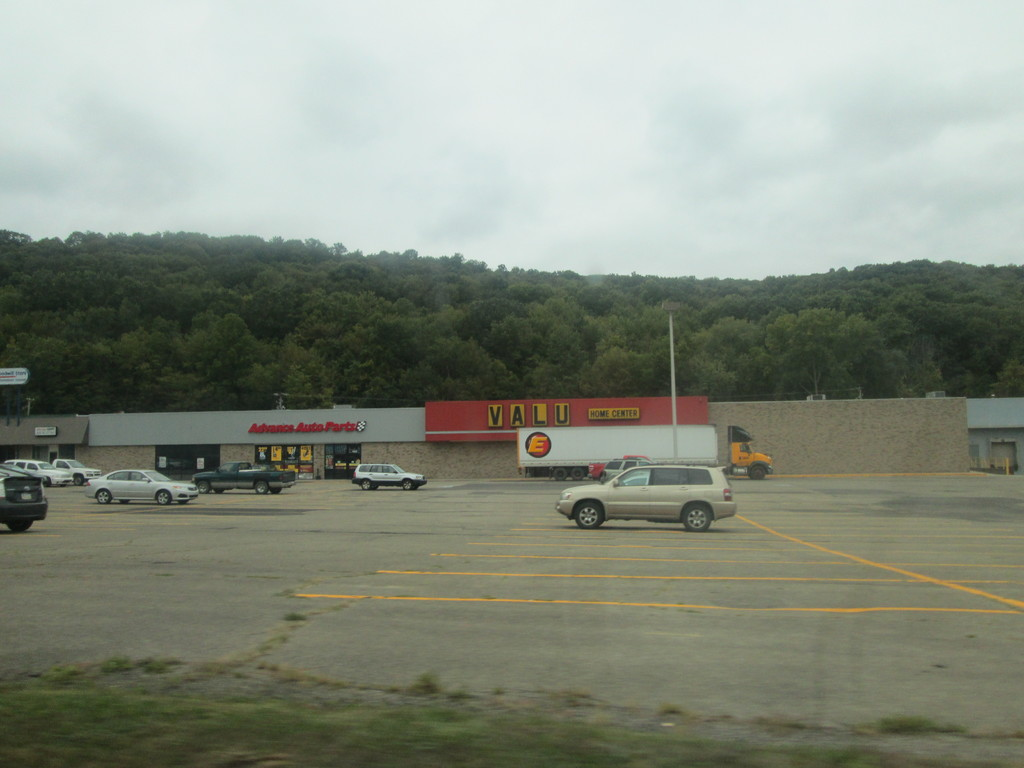Car: (0, 453, 200, 533), (545, 458, 745, 535), (351, 465, 426, 489)
